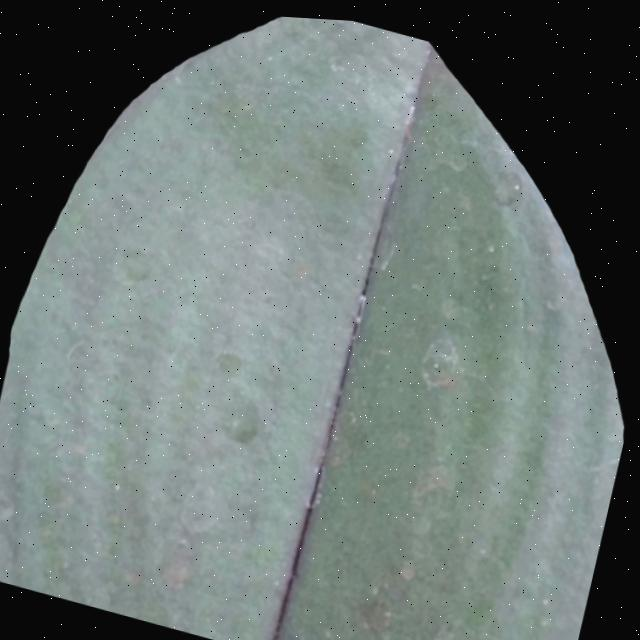mite: (189, 268, 474, 498), (195, 340, 280, 449), (414, 324, 468, 390), (222, 397, 268, 448), (206, 337, 253, 384), (486, 159, 527, 205), (213, 343, 246, 377), (229, 411, 262, 444), (235, 418, 259, 442), (426, 350, 445, 369)
